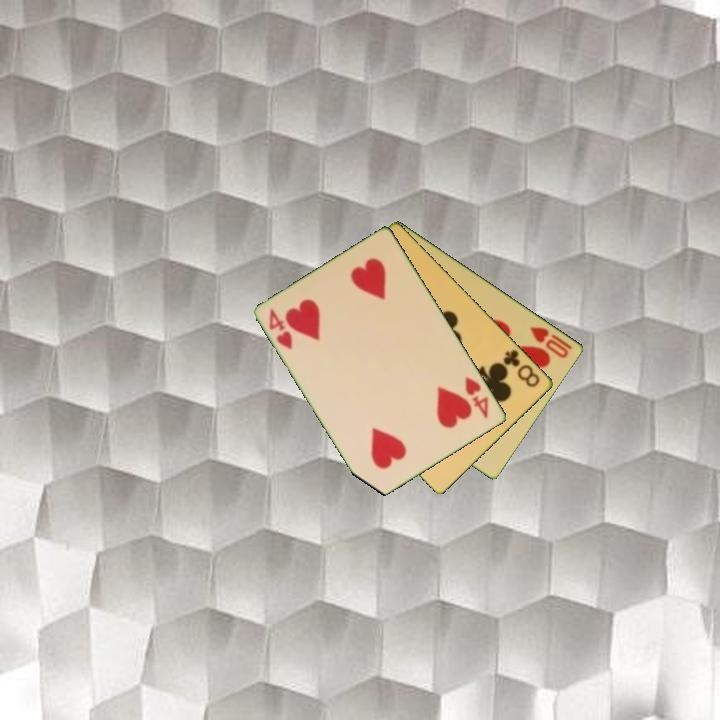10h: (527, 323, 576, 361)
4h: (462, 373, 492, 421), (266, 305, 296, 352)
8c: (500, 346, 543, 390)
